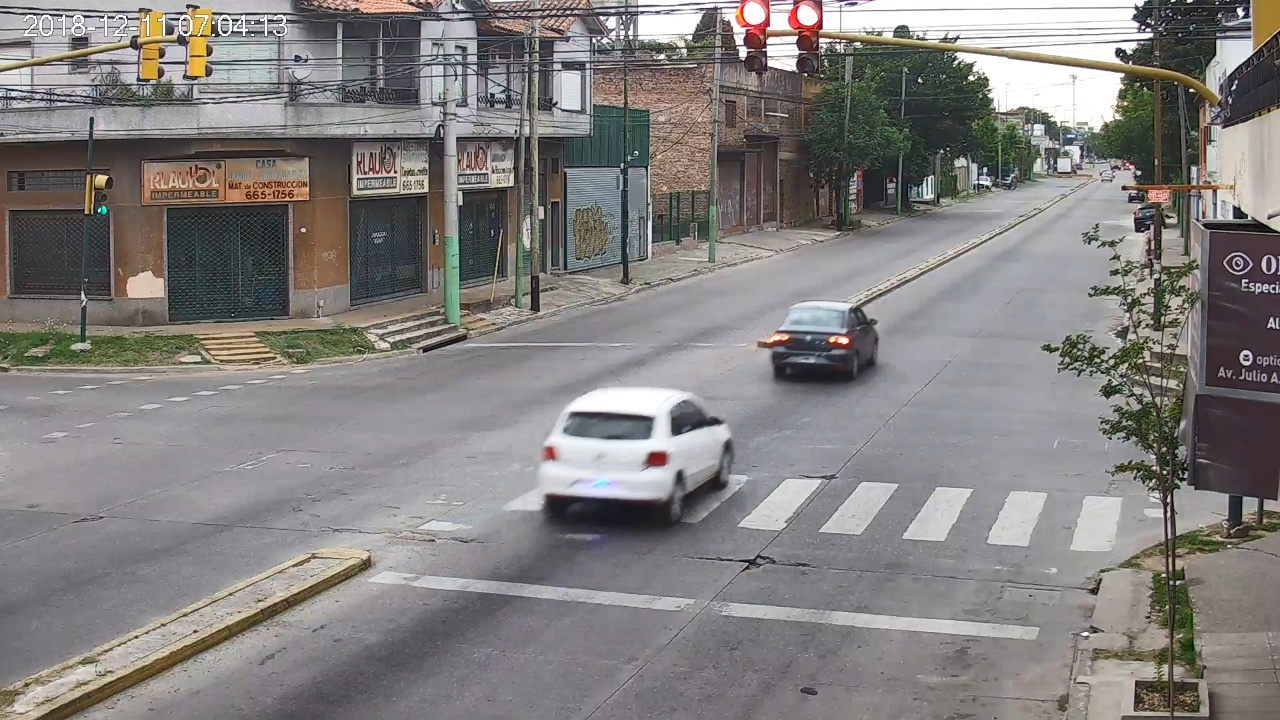car: (539, 386, 735, 524), (771, 301, 879, 380)
traffic light: (740, 1, 768, 72), (797, 1, 821, 72)
